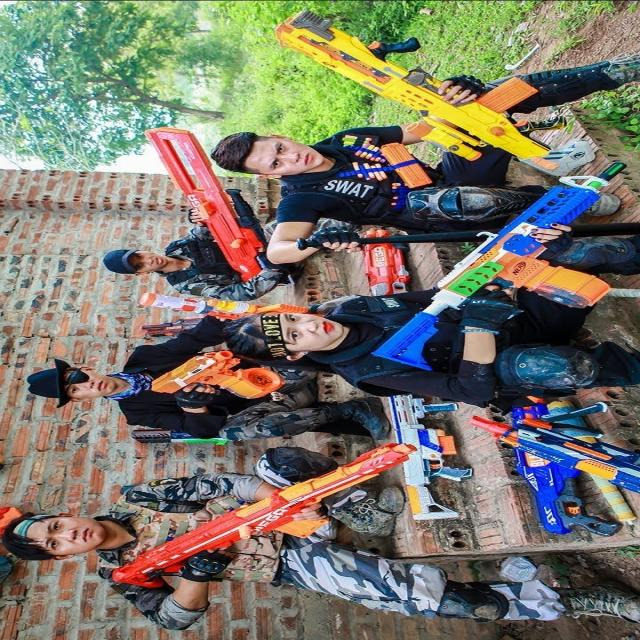Nerf gun: (267, 9, 597, 180), (364, 163, 626, 377), (107, 441, 420, 593), (140, 113, 269, 287), (502, 396, 624, 539), (465, 409, 639, 492), (378, 393, 474, 523), (142, 350, 286, 406), (352, 223, 420, 304), (134, 294, 312, 322)
